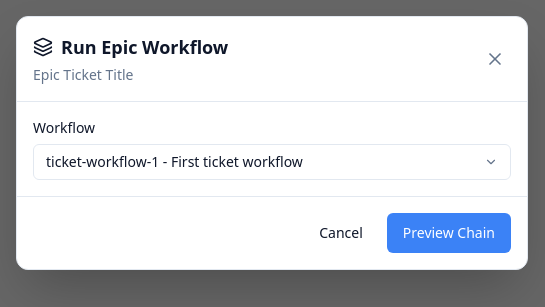
it: RunEpicWorkflowDialog › chain preview › shows loading state during preview
Click the button "Preview Chain". click: (449, 233)
box: [387,213,511,253]
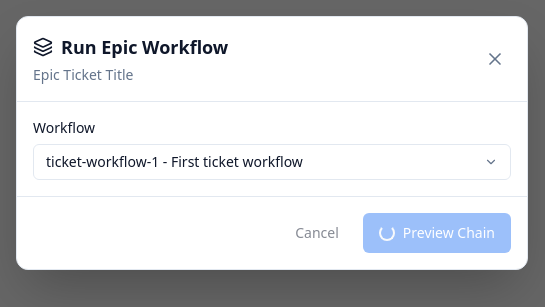
Result: the button "Preview Chain" is disabled at [363,213,511,253]
